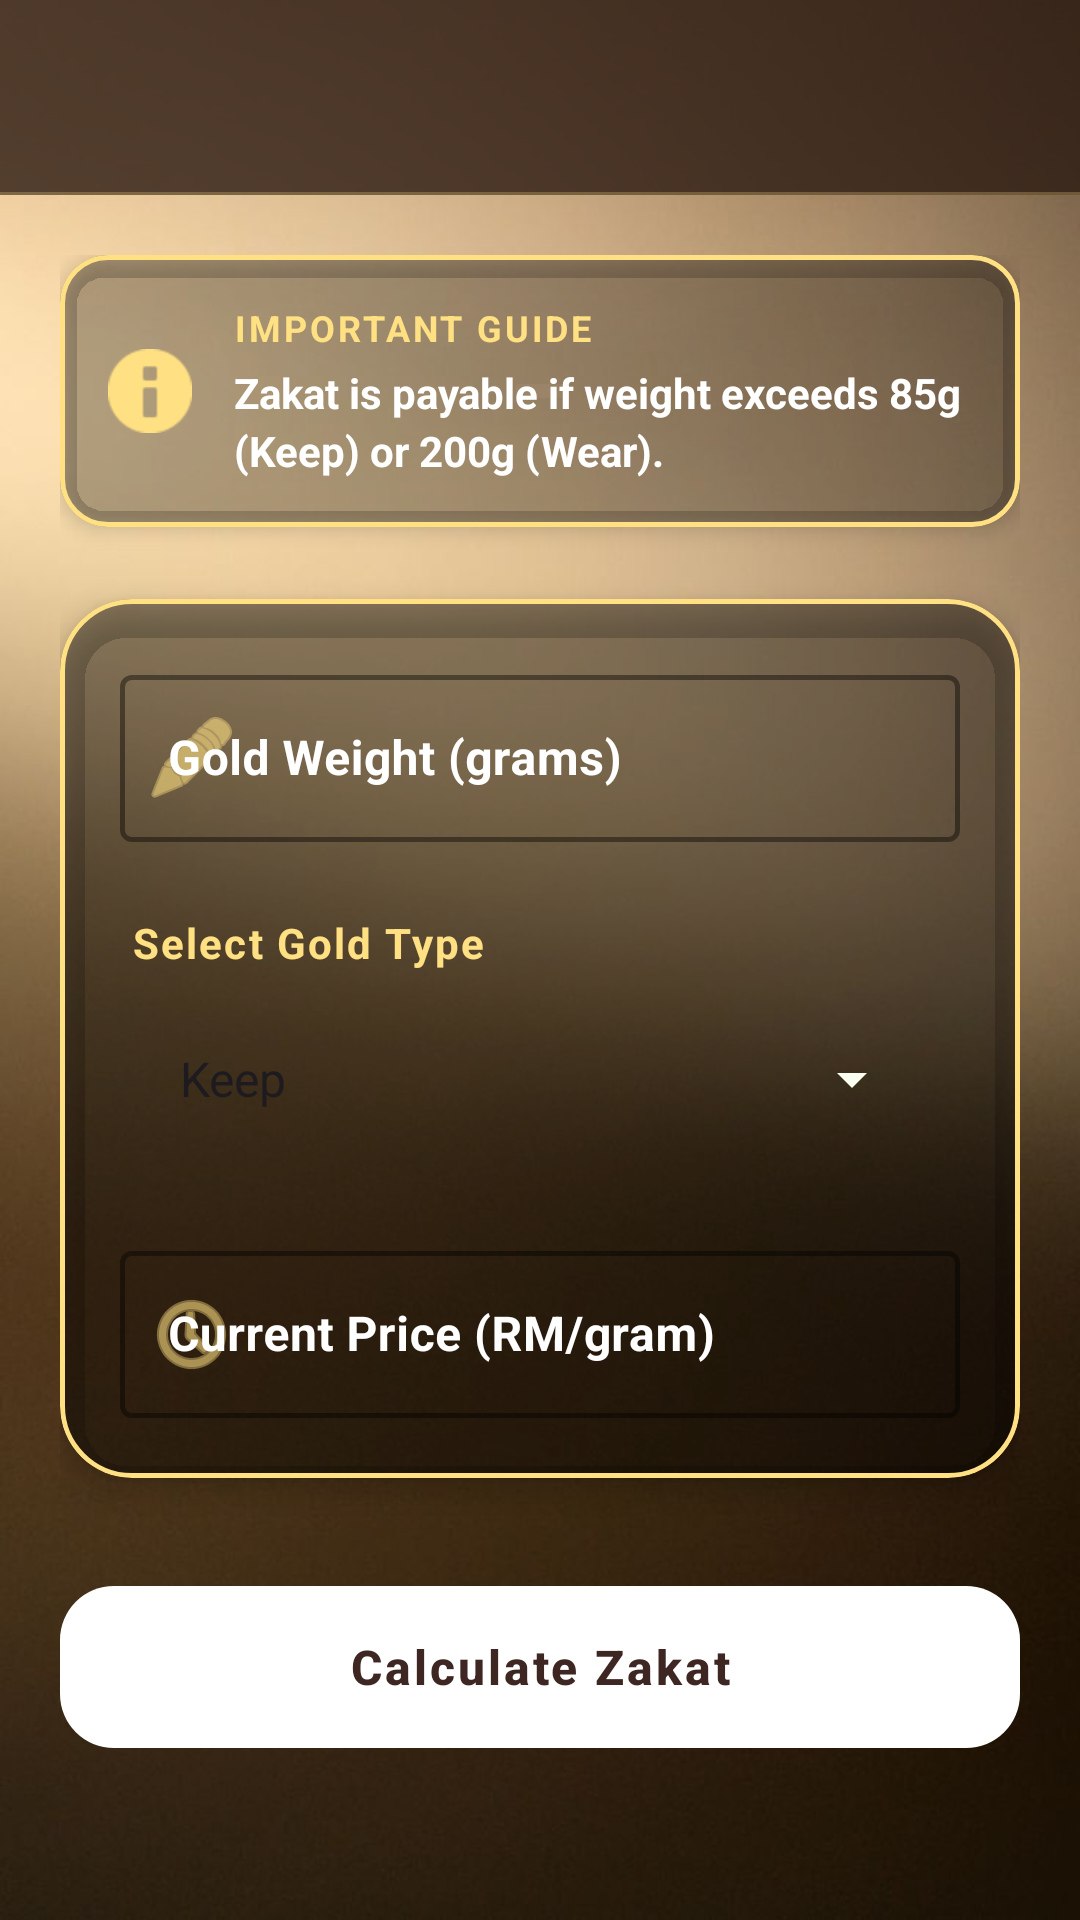

Icon bounding boxes for this 1080px×1920px phone screenshot, format (x1, y1, x2, y2):
info: (108, 349, 192, 433)
